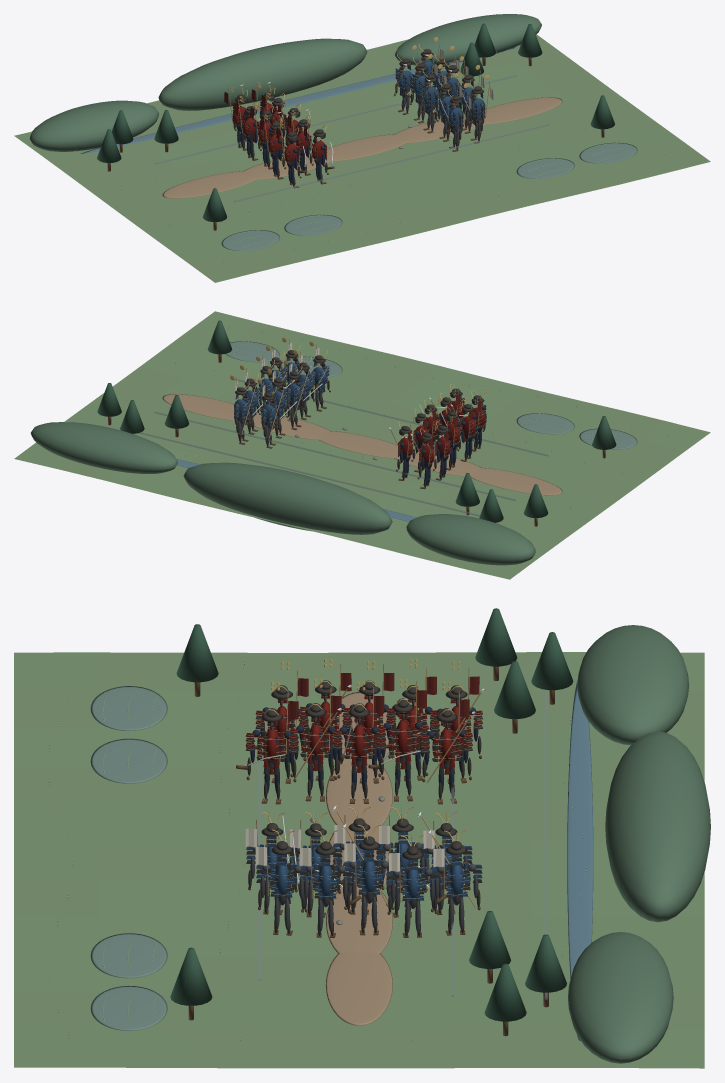
The model's file is samurai_battlefield_pack.glb.
3 renders of one model, top to bottom at view 1: azimuth 30°, elevation 25°; view 2: azimuth 150°, elevation 25°; view 3: azimuth 270°, elevation 25°, orthographic. The views are drawn at different scales.
Visible parts, largest first — view 1: rolling shinano countryside battlefield ground, distant center mountain ridge, distant left cedar hill, distant right cedar hill, narrow blue river channel, worn muddy road oval, worn muddy road oval.002, worn muddy road oval.004, flooded rice paddy 2, flooded rice paddy 4, flooded rice paddy 3, flooded rice paddy 1 (+13 smaller); view 2: rolling shinano countryside battlefield ground, distant center mountain ridge, distant right cedar hill, distant left cedar hill, worn muddy road oval, worn muddy road oval.002, worn muddy road oval.004, flooded rice paddy 2, low dawn mist band.002, worn muddy road oval.003, flooded rice paddy 4, low dawn mist band.001 (+11 smaller); view 3: rolling shinano countryside battlefield ground, distant center mountain ridge, distant right cedar hill, distant left cedar hill, narrow blue river channel, worn muddy road oval.004, worn muddy road oval.001, worn muddy road oval.003, flooded rice paddy 2, flooded rice paddy 3, flooded rice paddy 4, flooded rice paddy 1 (+10 smaller).
Part boxes in pixels (bbox=[...]): rolling shinano countryside battlefield ground: bbox=[14, 34, 710, 282]; distant center mountain ridge: bbox=[158, 38, 367, 110]; distant left cedar hill: bbox=[29, 100, 158, 151]; distant right cedar hill: bbox=[395, 14, 541, 65]; narrow blue river channel: bbox=[80, 47, 515, 153]; worn muddy road oval: bbox=[162, 171, 255, 198]; worn muddy road oval.002: bbox=[327, 134, 405, 161]; worn muddy road oval.004: bbox=[481, 97, 562, 124]; flooded rice paddy 2: bbox=[284, 214, 342, 235]; flooded rice paddy 4: bbox=[579, 142, 637, 163]; flooded rice paddy 3: bbox=[516, 158, 574, 178]; flooded rice paddy 1: bbox=[221, 230, 279, 250]; rolling shinano countryside battlefield ground: bbox=[14, 311, 710, 579]; distant center mountain ridge: bbox=[183, 462, 392, 534]; distant right cedar hill: bbox=[30, 422, 177, 473]; distant left cedar hill: bbox=[406, 514, 535, 565]; worn muddy road oval: bbox=[470, 467, 562, 495]; worn muddy road oval.002: bbox=[319, 431, 397, 458]; worn muddy road oval.004: bbox=[162, 394, 234, 420]; flooded rice paddy 2: bbox=[516, 413, 574, 434]; low dawn mist band.002: bbox=[119, 427, 479, 516]; worn muddy road oval.003: bbox=[247, 412, 330, 439]; flooded rice paddy 4: bbox=[225, 341, 279, 362]; low dawn mist band.001: bbox=[154, 411, 515, 500]; rolling shinano countryside battlefield ground: bbox=[14, 652, 704, 1068]; distant center mountain ridge: bbox=[605, 731, 710, 922]; distant right cedar hill: bbox=[568, 932, 673, 1063]; distant left cedar hill: bbox=[577, 625, 689, 745]; narrow blue river channel: bbox=[567, 680, 593, 1041]; worn muddy road oval.004: bbox=[325, 952, 392, 1025]; worn muddy road oval.001: bbox=[325, 763, 392, 826]; worn muddy road oval.003: bbox=[325, 889, 392, 953]; flooded rice paddy 2: bbox=[90, 738, 167, 783]; flooded rice paddy 3: bbox=[90, 933, 167, 978]; flooded rice paddy 4: bbox=[90, 985, 167, 1030]; flooded rice paddy 1: bbox=[90, 686, 167, 731].
Bounding box in the file's own units: 16.1 × 2.32 × 11.2.
